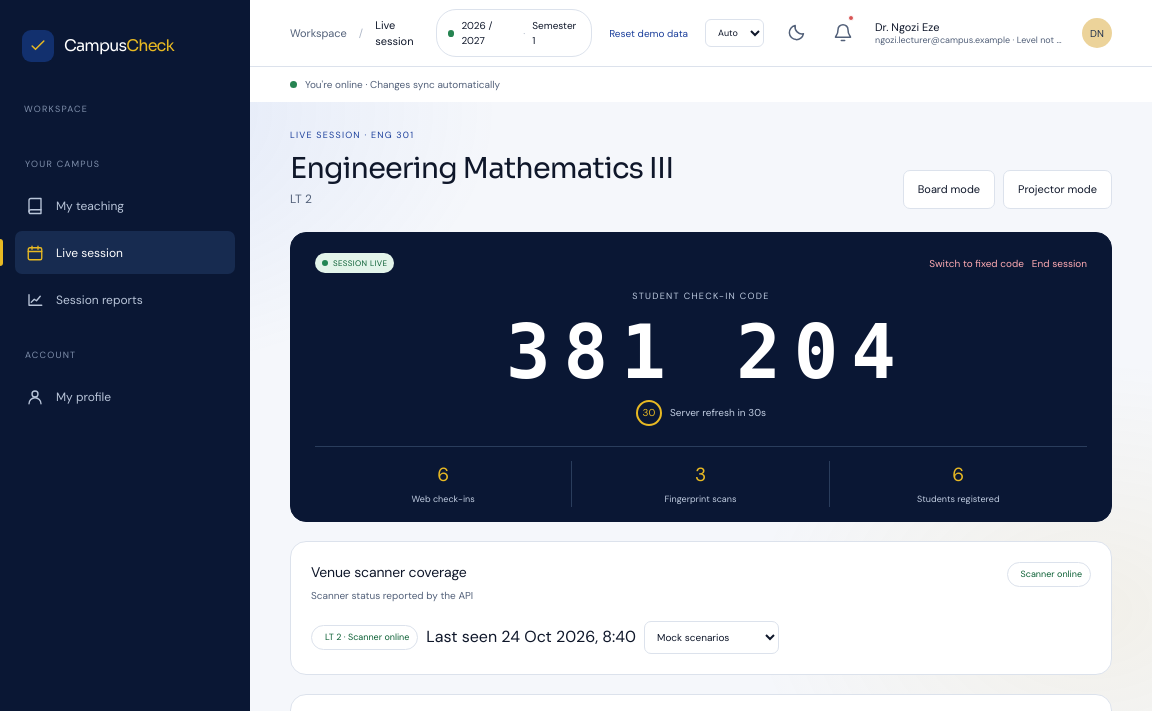
Scenario: Campus Attendance screens › shows scanner coverage loss and the fixed-code banner
Expected: the element that starts with "LIVE SESSION · ENG 301" shows "Engineering Mathematics III", [290, 150, 673, 186]
Expected: the text "Scanner online" is shown, [1007, 562, 1091, 587]
Select "Scanner offline" in the dropdown named "Mock live screen scenario" at {"x": 712, "y": 637}, box [644, 621, 779, 654]
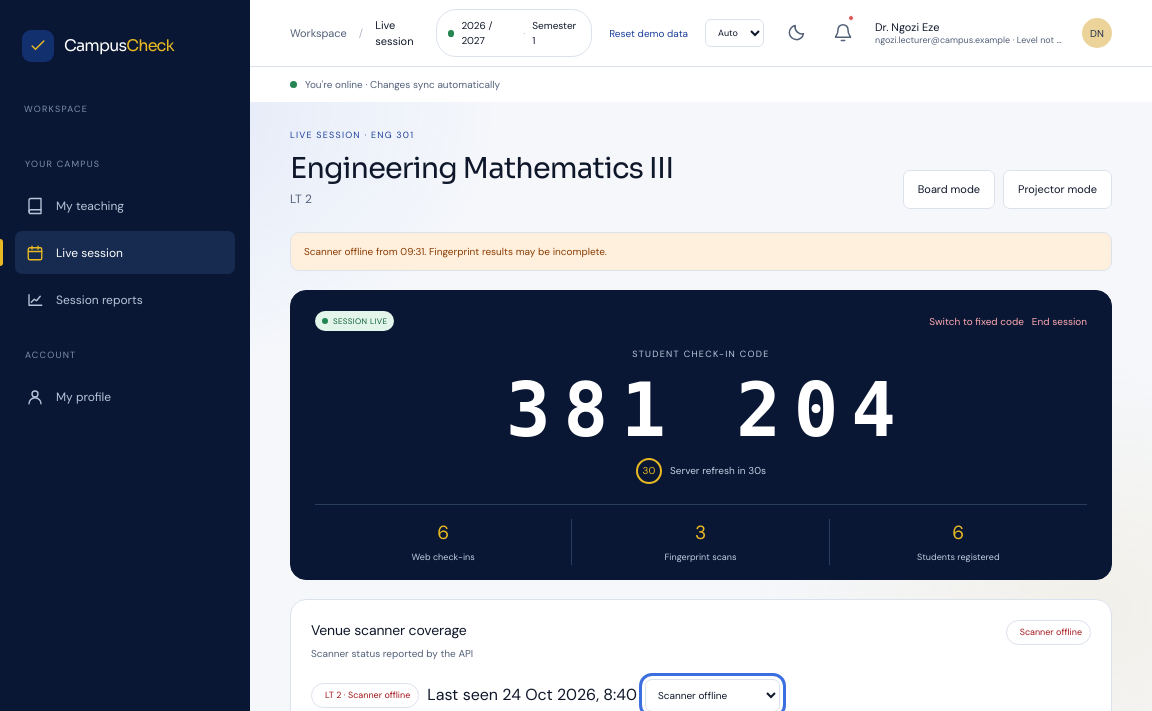
Expected: the text "Scanner offline from 09:31. Fingerprint results may be incomplete." is shown, [290, 232, 1112, 271]
Click the button "Switch to fixed code" at {"x": 977, "y": 321}, box [929, 314, 1024, 329]
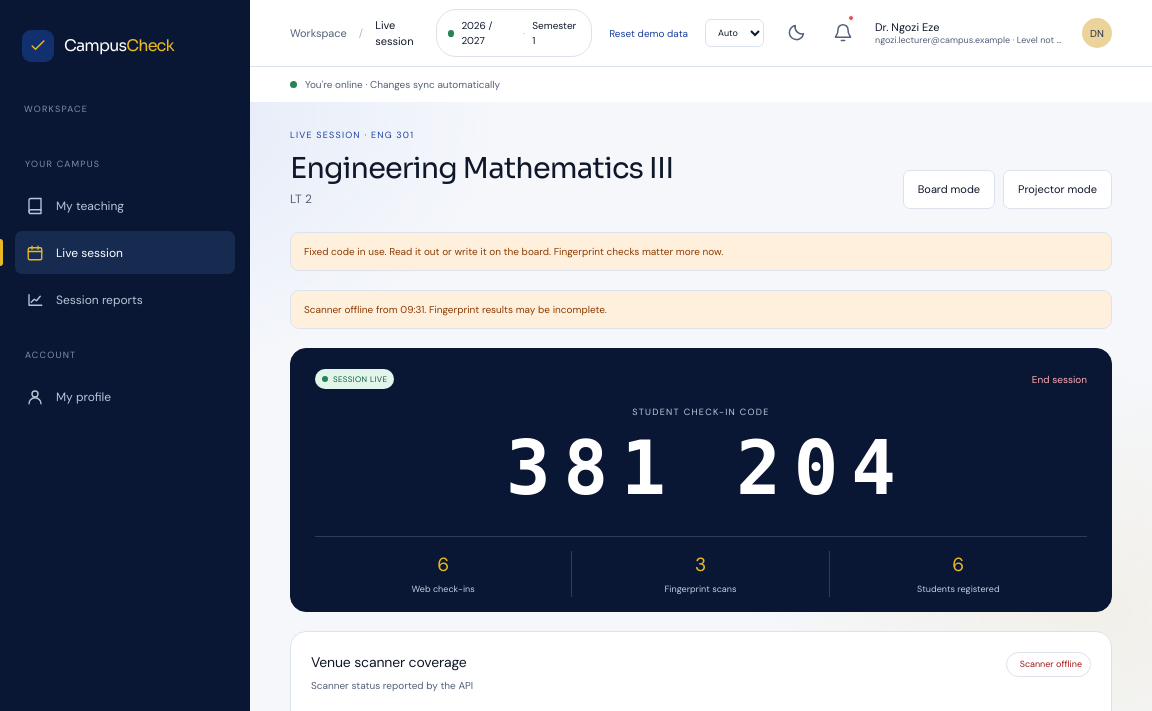
Expected: the element with class "fixed-code-banner" is shown, [290, 232, 1112, 271]
Expected: the element with class "fixed-code-banner" shows "Fixed code in use.", [304, 245, 387, 258]
Expected: the button "Switch to fixed code" is gone
